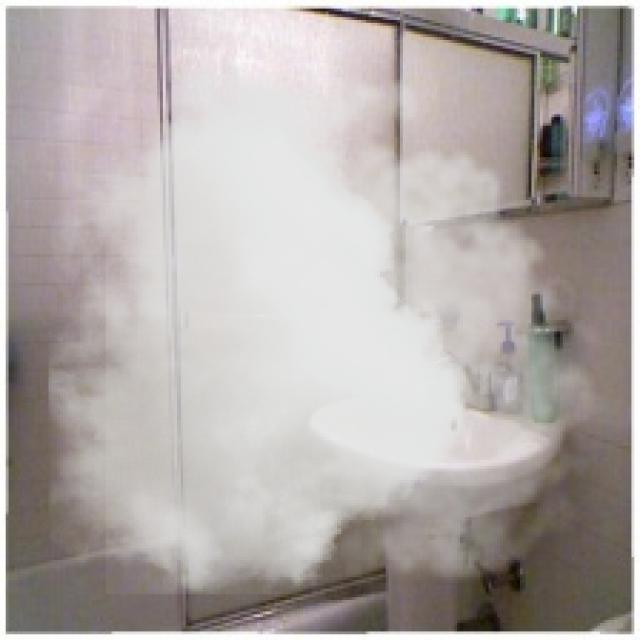smoke: (49, 40, 614, 594)
